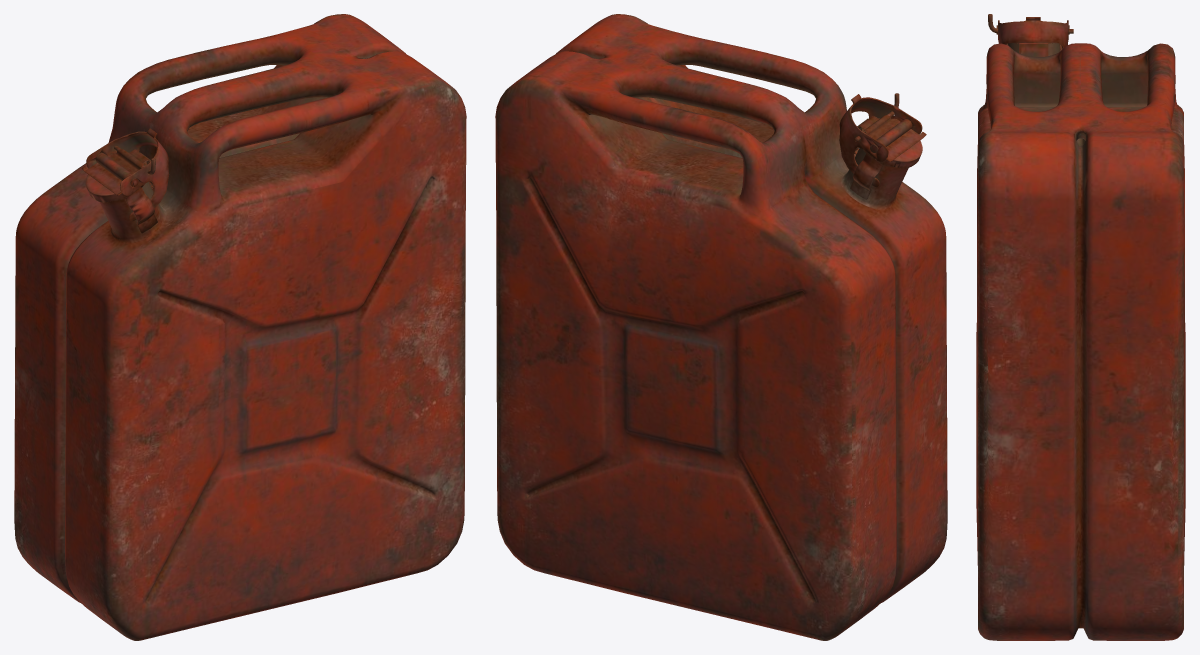
File: metal_jerrycan.glb
3 views of the same model, side by side, from view 1: azimuth 30°, elevation 25°; view 2: azimuth 150°, elevation 25°; view 3: azimuth 270°, elevation 25° (orthographic). The views are drawn at different scales.
Visible parts, largest first — view 1: metal_jerrycan; view 2: metal_jerrycan; view 3: metal_jerrycan.
Part boxes in pixels (box(x1,y1,x2,y2)): metal_jerrycan: box(14, 14, 466, 640); metal_jerrycan: box(495, 14, 947, 640); metal_jerrycan: box(976, 14, 1185, 640).
Bounding box in the file's own units: 0.3503 × 0.4552 × 0.1717.
Materials: 1 (1 with a texture image).
